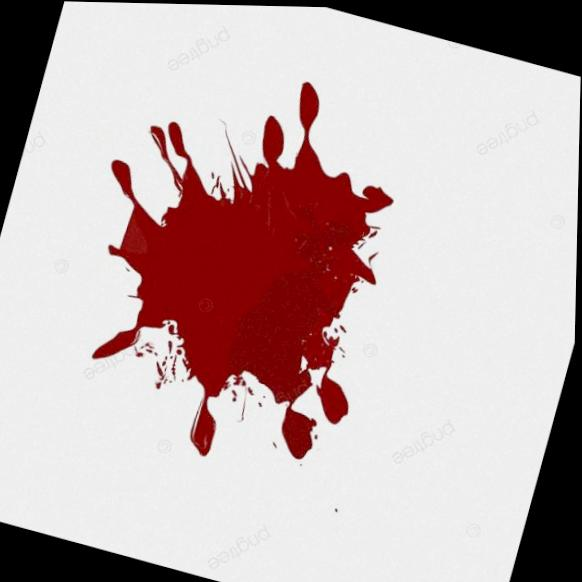Fire: (92, 80, 395, 459)
